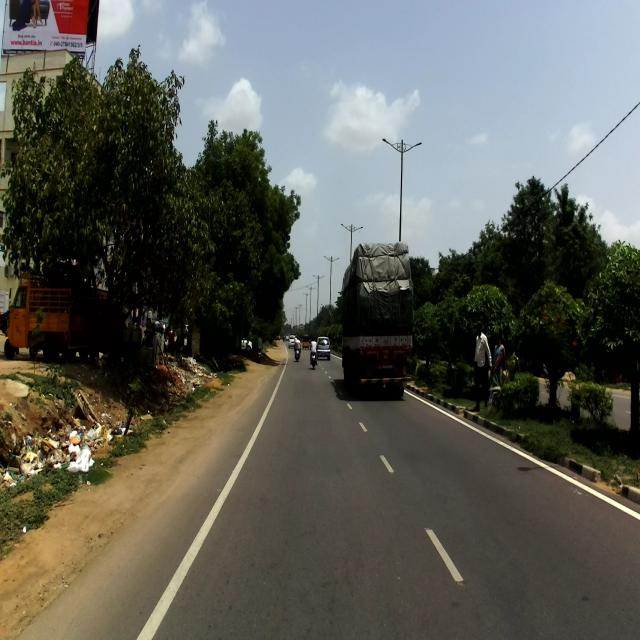autorickshaw: (4, 270, 85, 364)
truck: (342, 242, 416, 396)
